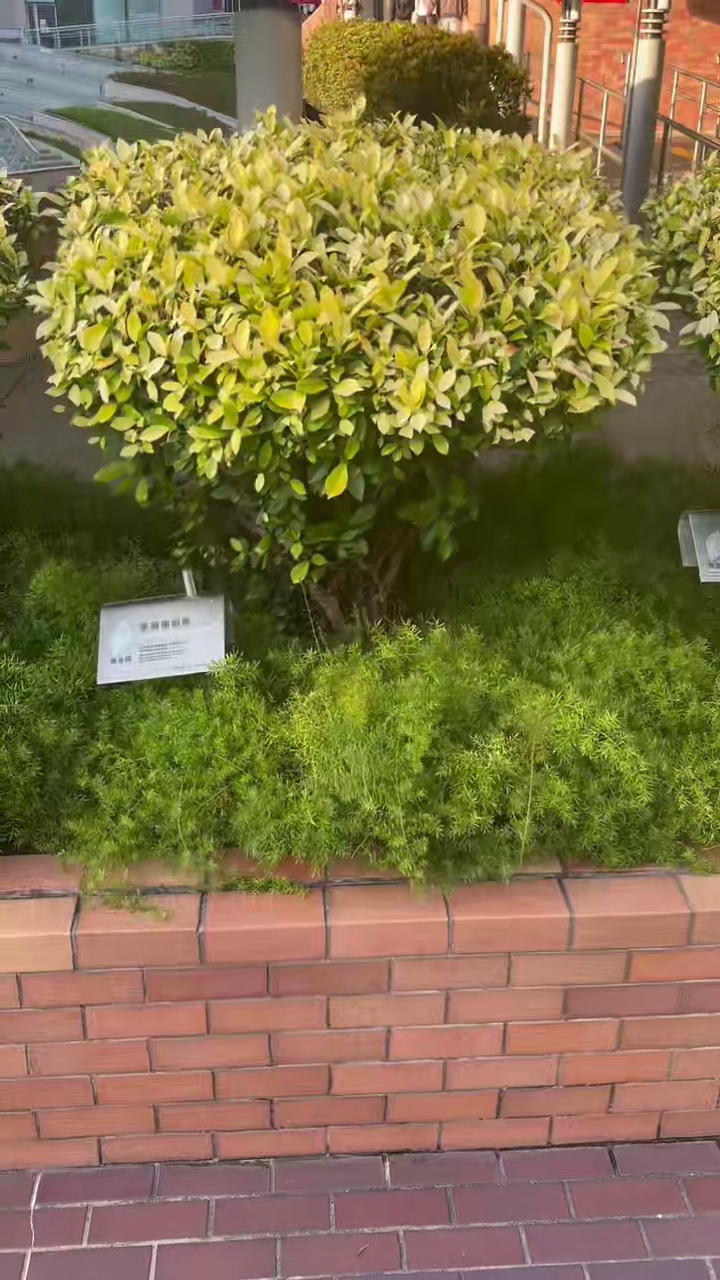Golden-leaves Fig: (34, 100, 668, 629)
